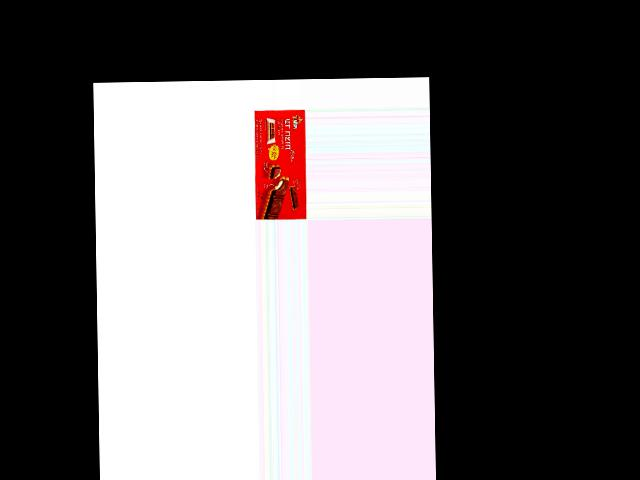chocolate: (253, 107, 307, 220)
